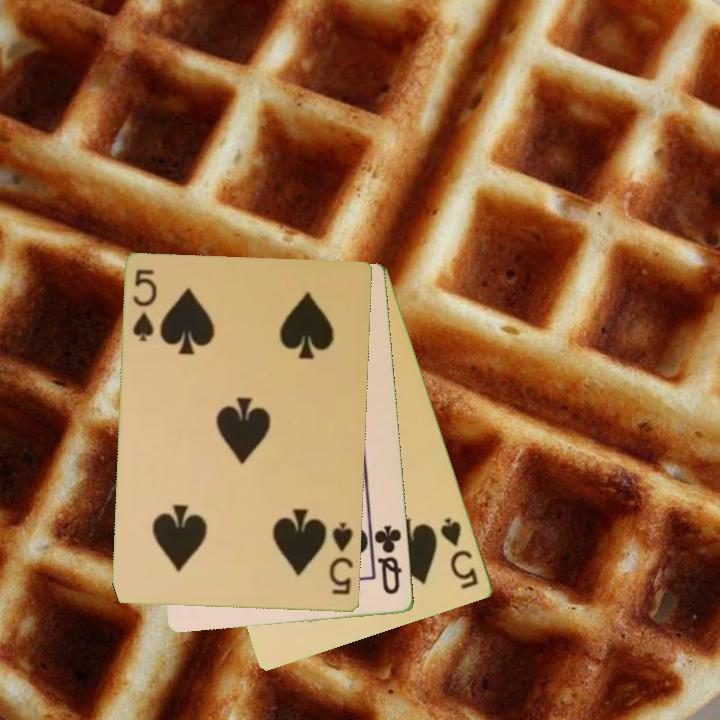5s: (437, 514, 482, 593), (326, 519, 357, 598), (130, 266, 161, 345)
Qc: (371, 522, 405, 598)
